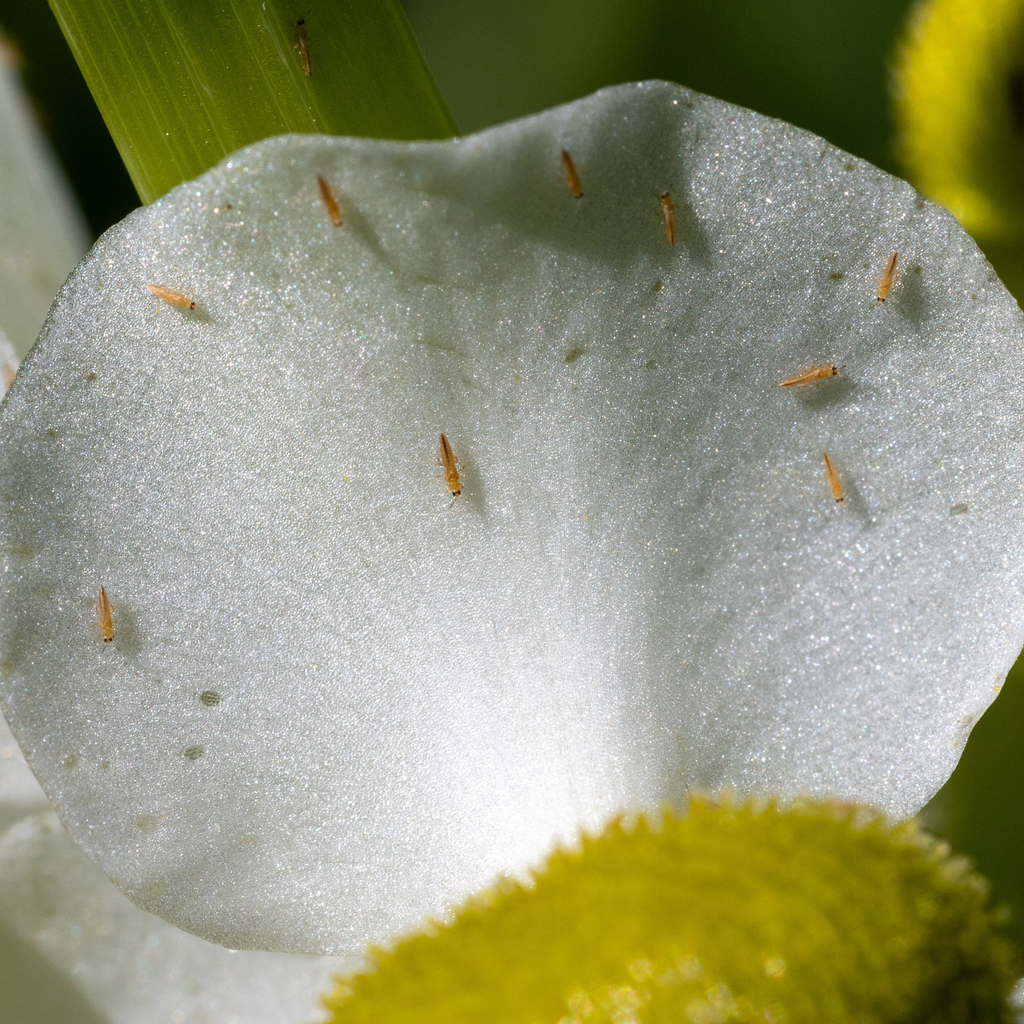tiny_pests: (413, 407, 490, 523), (761, 336, 860, 412), (75, 562, 137, 668), (300, 154, 362, 246), (805, 428, 865, 522), (545, 126, 600, 214)
